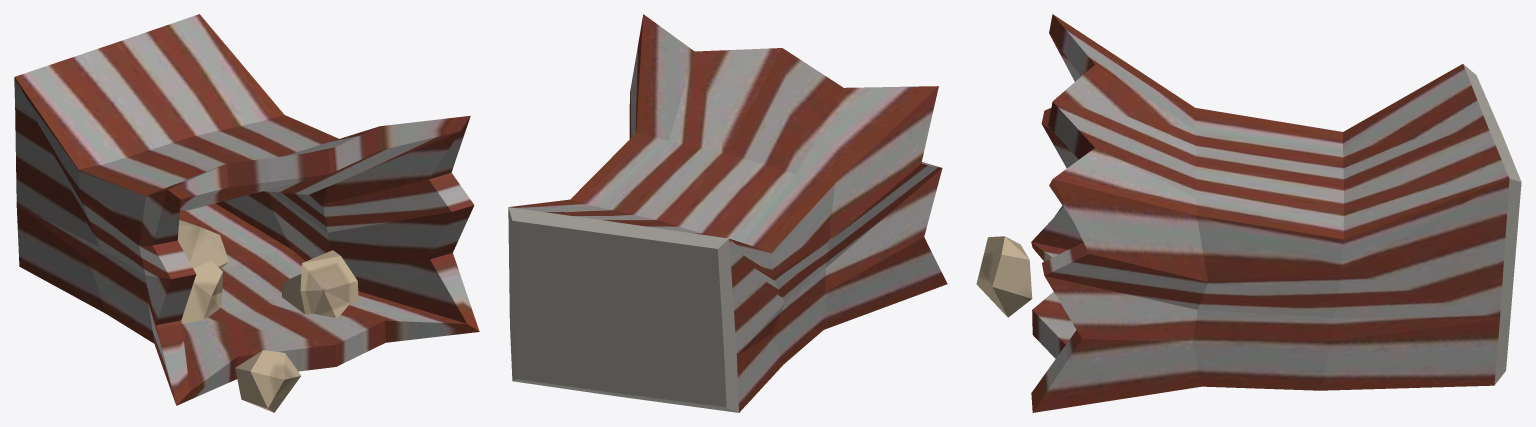
File: SM_Prop_Rubbish_Popcorn_01.glb
3 renders of one model, left to right at view 1: azimuth 30°, elevation 25°; view 2: azimuth 150°, elevation 25°; view 3: azimuth 270°, elevation 25°, orthographic. The views are drawn at different scales.
Parts seen in each view (by area): view 1: SM_Prop_Rubbish_Popcorn_01; view 2: SM_Prop_Rubbish_Popcorn_01; view 3: SM_Prop_Rubbish_Popcorn_01.
Boxes of the visible parts, <box> form: SM_Prop_Rubbish_Popcorn_01: <box>14,14,479,412</box>; SM_Prop_Rubbish_Popcorn_01: <box>508,14,947,412</box>; SM_Prop_Rubbish_Popcorn_01: <box>976,14,1521,412</box>.
Size of the model in its own units: 27.15 by 19.66 by 37.88.
1 material, 1 textured.
